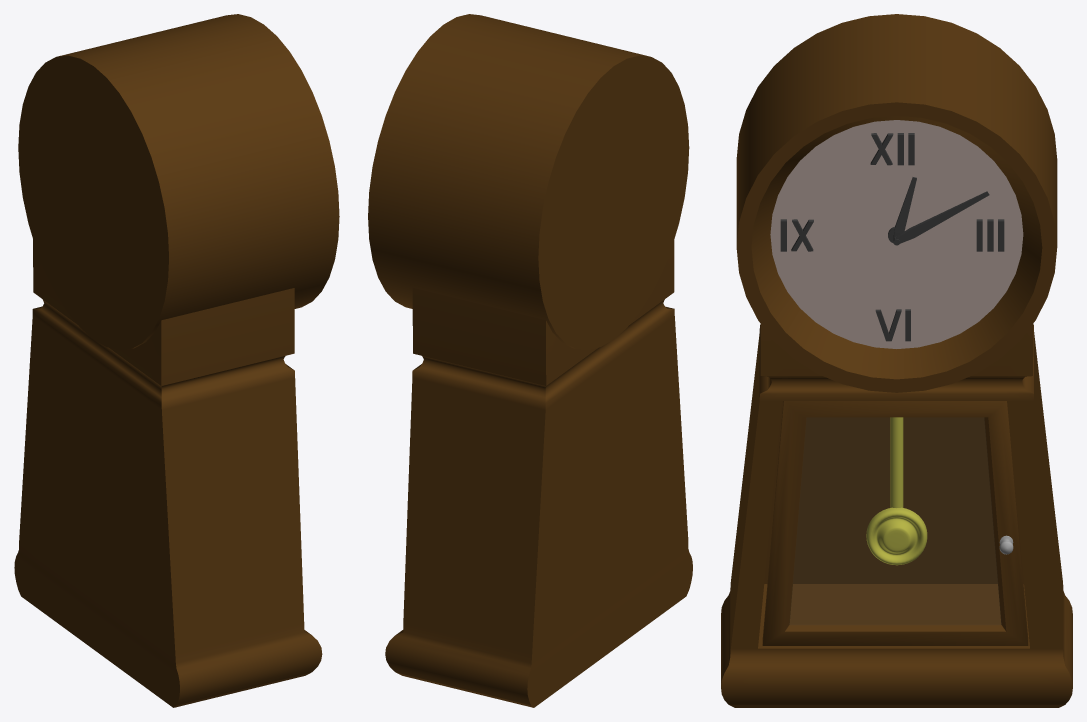
Rendered from Clock.fbx.
The picture shows the model from 3 angles, left to right: view 1: azimuth 30°, elevation 25°; view 2: azimuth 150°, elevation 25°; view 3: azimuth 270°, elevation 25°; orthographic projection. The views are drawn at different scales.
Parts seen in each view (by area): view 1: Body; view 2: Body; view 3: Body, Frame, Pendulum, Minute_hand.
Boxes of the visible parts, x1=… form: Body: x1=14, y1=14, x2=339, y2=707; Body: x1=368, y1=14, x2=692, y2=707; Body: x1=721, y1=14, x2=1072, y2=707; Frame: x1=762, y1=401, x2=1028, y2=645; Pendulum: x1=866, y1=417, x2=927, y2=565; Minute_hand: x1=896, y1=191, x2=989, y2=243.
Size of the model in its own units: 0.6231 by 2.05 by 1.05.
